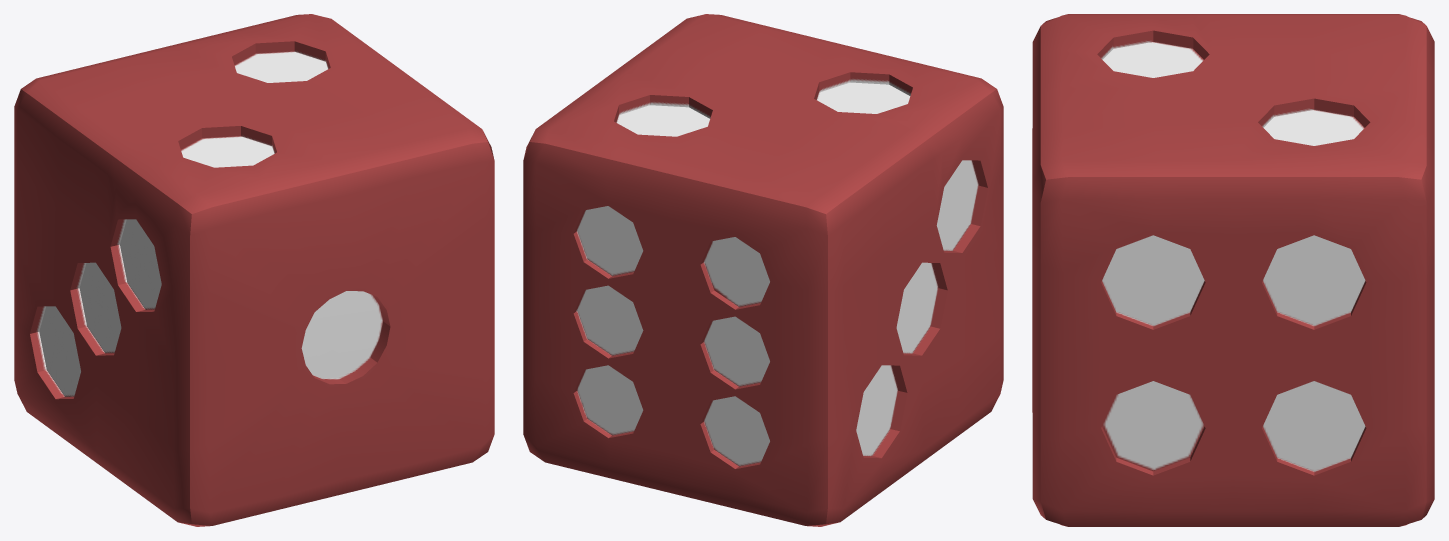
Rendered from model_texture_03.fbx.
The picture shows the model from 3 angles, left to right: view 1: azimuth 30°, elevation 25°; view 2: azimuth 150°, elevation 25°; view 3: azimuth 270°, elevation 25°; orthographic projection. The views are drawn at different scales.
Parts seen in each view (by area): view 1: polySurface8; view 2: polySurface8; view 3: polySurface8.
Boxes of the visible parts, bbox=[...] form: polySurface8: bbox=[14, 14, 494, 526]; polySurface8: bbox=[523, 14, 1003, 526]; polySurface8: bbox=[1032, 14, 1434, 526].
Size of the model in its own units: 5 by 5 by 5.01.
